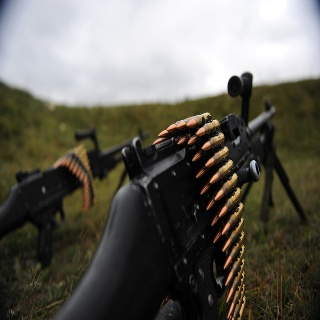rifle: (55, 72, 310, 320), (1, 123, 153, 264)
